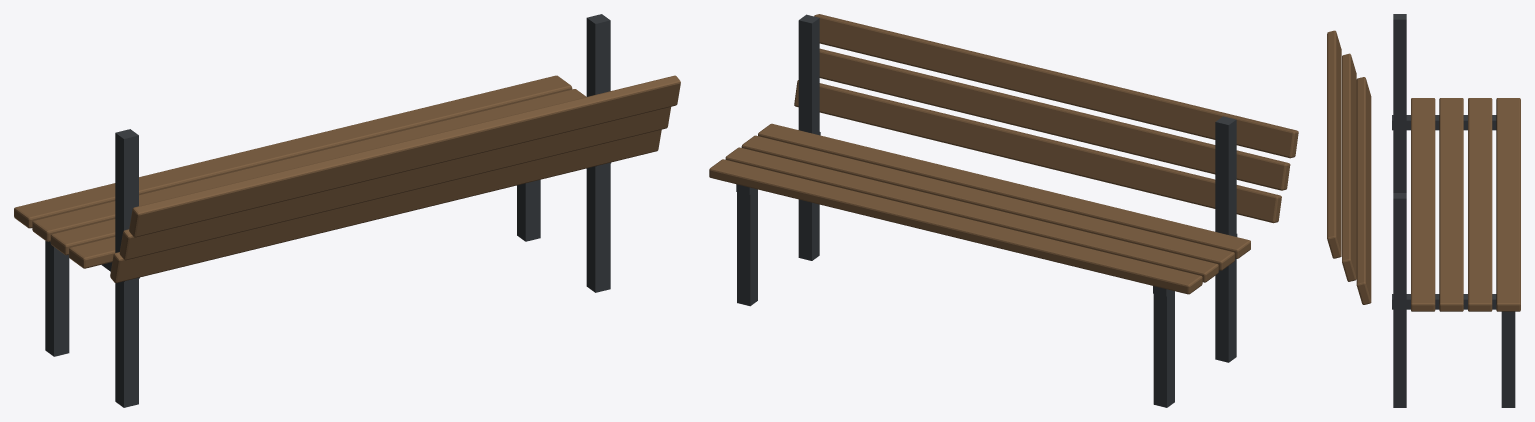
Rendered from bench_slat_1800.glb.
3 renders of one model, left to right at view 1: azimuth 30°, elevation 25°; view 2: azimuth 150°, elevation 25°; view 3: azimuth 270°, elevation 25°, orthographic. The views are drawn at different scales.
Visible parts, largest first — view 1: bench_slat_1800; view 2: bench_slat_1800; view 3: bench_slat_1800.
Part boxes in pixels (<box>): bench_slat_1800: <box>14,14,680,407</box>; bench_slat_1800: <box>709,14,1298,407</box>; bench_slat_1800: <box>1327,14,1520,407</box>.
Bounding box in the file's own units: 1.8 × 0.85 × 0.7131.
